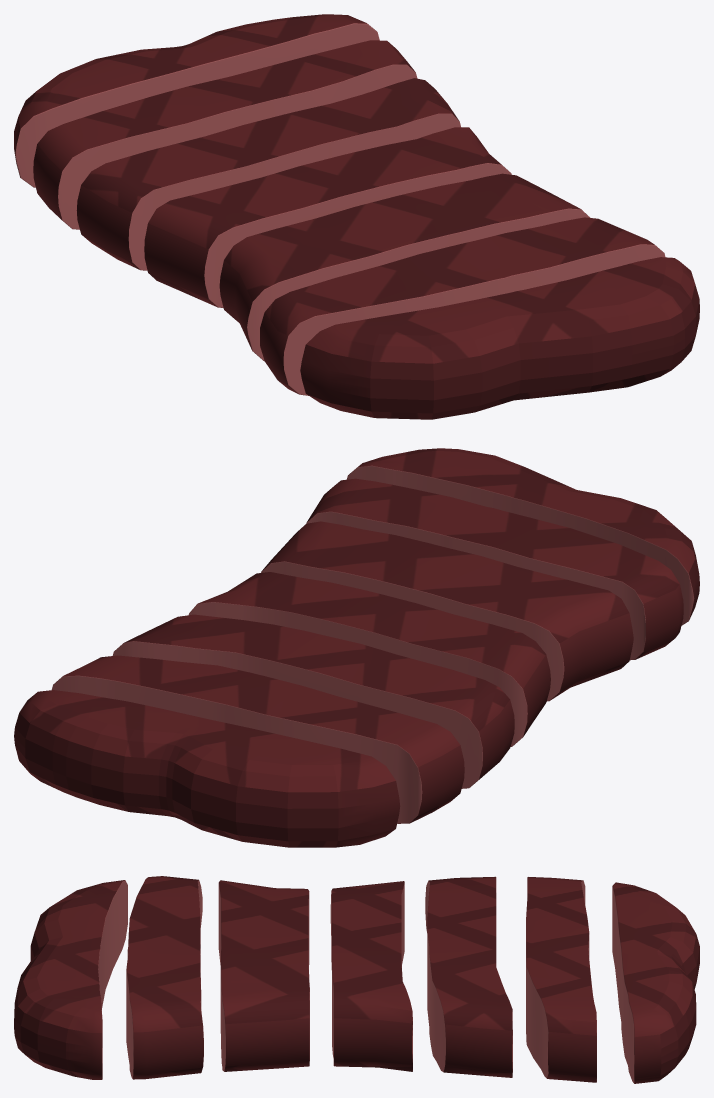
The model's file is Steak-UV.fbx.
3 renders of one model, top to bottom at view 1: azimuth 30°, elevation 25°; view 2: azimuth 150°, elevation 25°; view 3: azimuth 270°, elevation 25°, orthographic. The views are drawn at different scales.
Parts seen in each view (by area): view 1: Steak; view 2: Steak; view 3: Steak.
Part boxes in pixels (x1=…): Steak: x1=14, y1=14, x2=699, y2=419; Steak: x1=14, y1=448, x2=699, y2=847; Steak: x1=14, y1=876, x2=699, y2=1083.
Size of the model in its own units: 5.22 by 1.22 by 9.45.
Materials: 1 (1 with a texture image).
